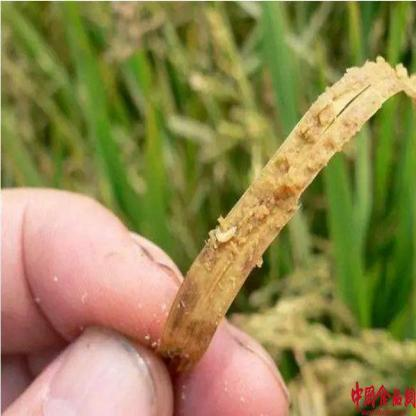whorl-maggot: (211, 222, 239, 246)
